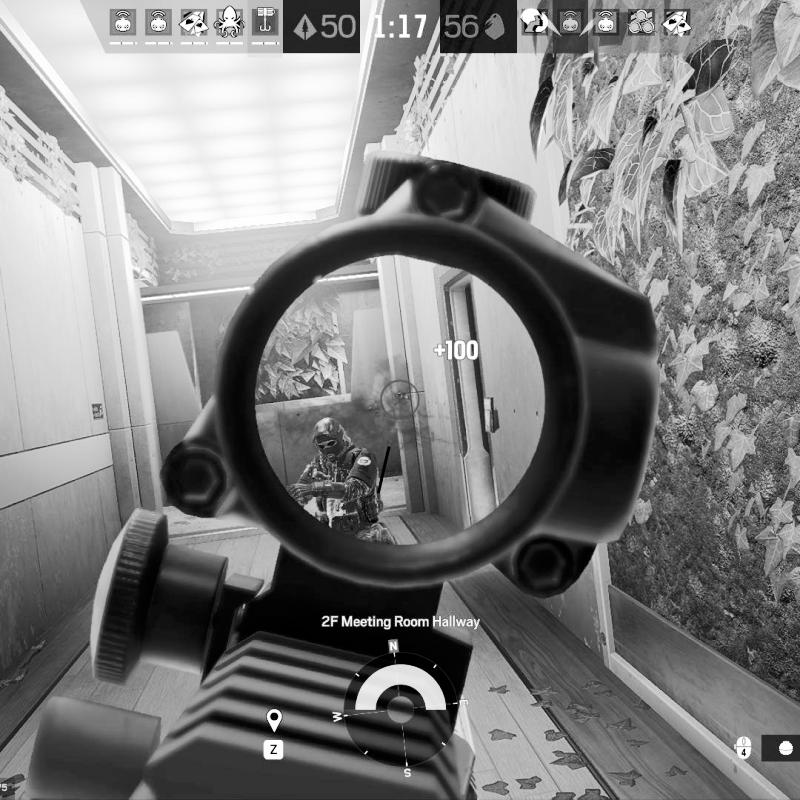Character: (286, 416, 401, 548)
Head: (310, 417, 353, 461)
